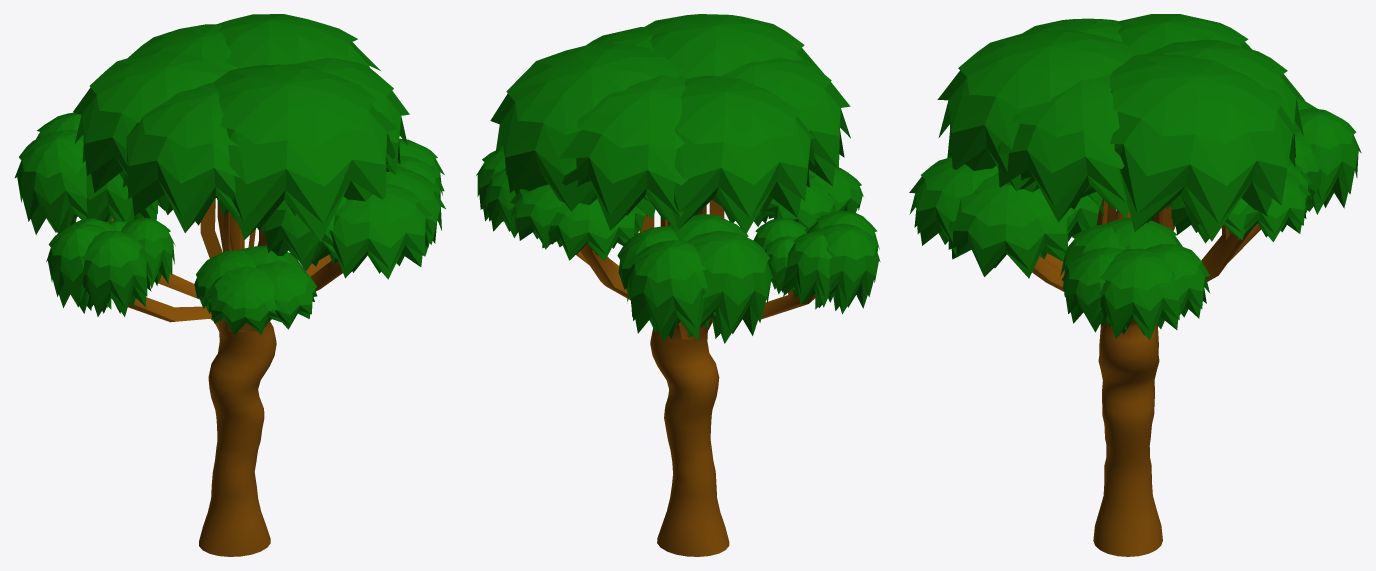
File: Tree4.fbx
The picture shows the model from 3 angles, left to right: view 1: azimuth 30°, elevation 25°; view 2: azimuth 150°, elevation 25°; view 3: azimuth 270°, elevation 25°; orthographic projection. The views are drawn at different scales.
Parts seen in each view (by area): view 1: polySurface94; view 2: polySurface94; view 3: polySurface94.
Boxes of the visible parts, x1,y1,x2,y2 form: polySurface94: (14,14,445,556); polySurface94: (476,14,880,556); polySurface94: (909,14,1361,556).
Bounding box in the file's own units: 20.7 × 24.57 × 20.09.
